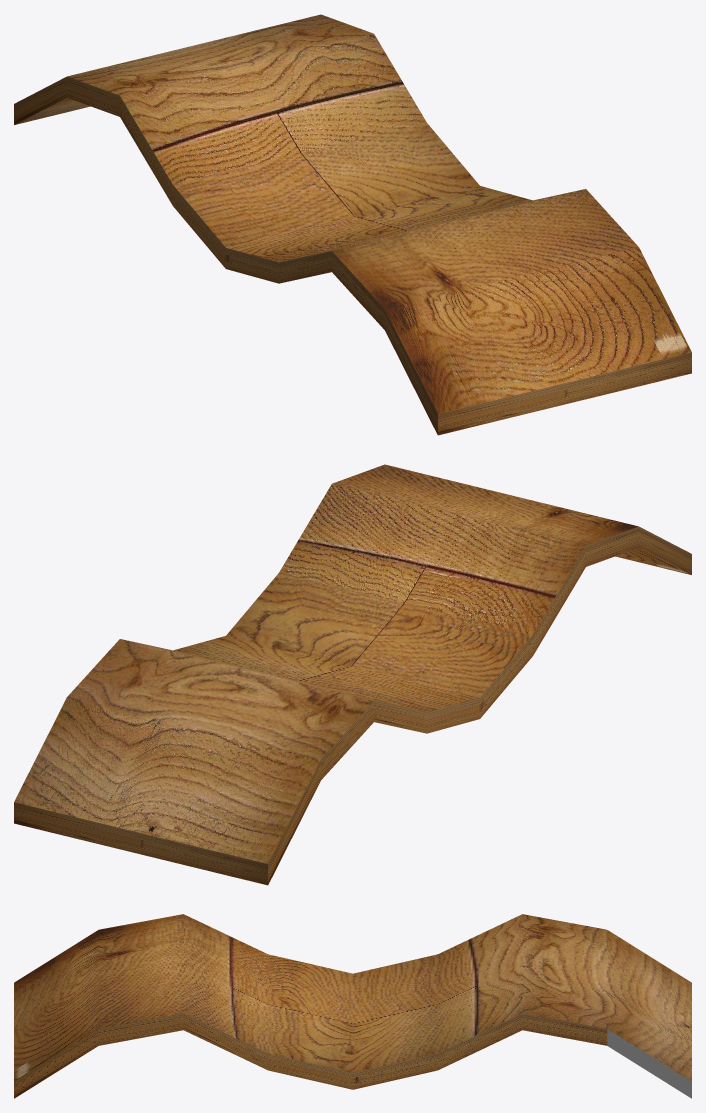
The model's file is bridge2.FBX.
3 renders of one model, top to bottom at view 1: azimuth 30°, elevation 25°; view 2: azimuth 150°, elevation 25°; view 3: azimuth 270°, elevation 25°, orthographic. The views are drawn at different scales.
Parts seen in each view (by area): view 1: Box001; view 2: Box001; view 3: Box001.
Boxes of the visible parts, x1,y1,x2,y2 form: Box001: (14, 14, 691, 435); Box001: (14, 464, 691, 885); Box001: (14, 914, 691, 1098).
Bounding box in the file's own units: 38.89 × 15.66 × 112.
Materials: 2 (1 with a texture image).
